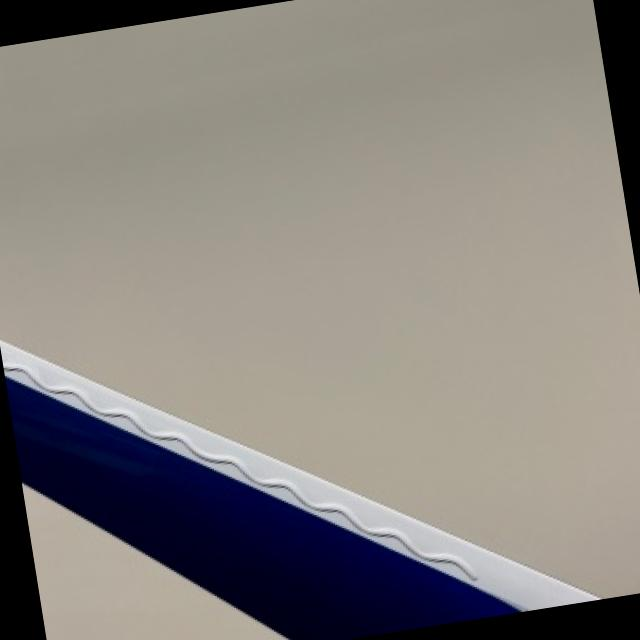healthy: (1, 338, 599, 640)
